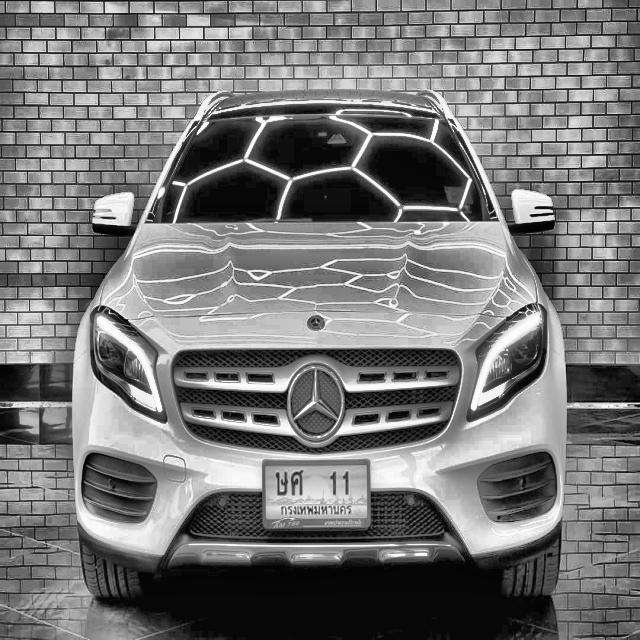license-plate: (261, 458, 373, 533)
